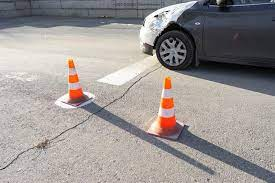car: (140, 1, 275, 72)
cone: (147, 76, 188, 140), (57, 59, 94, 110)
